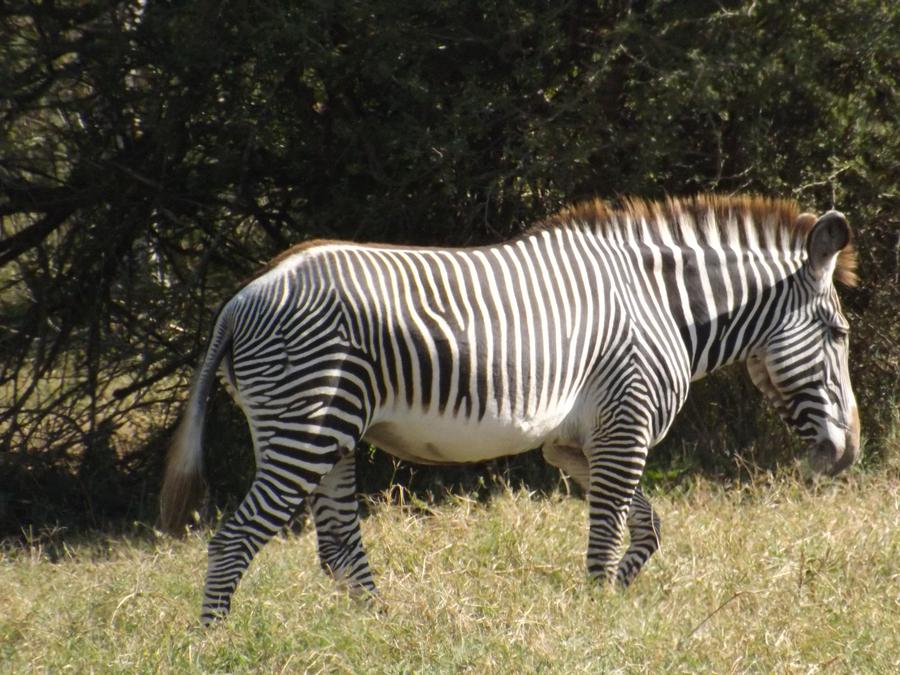zebra_grevys: (187, 218, 658, 448)
